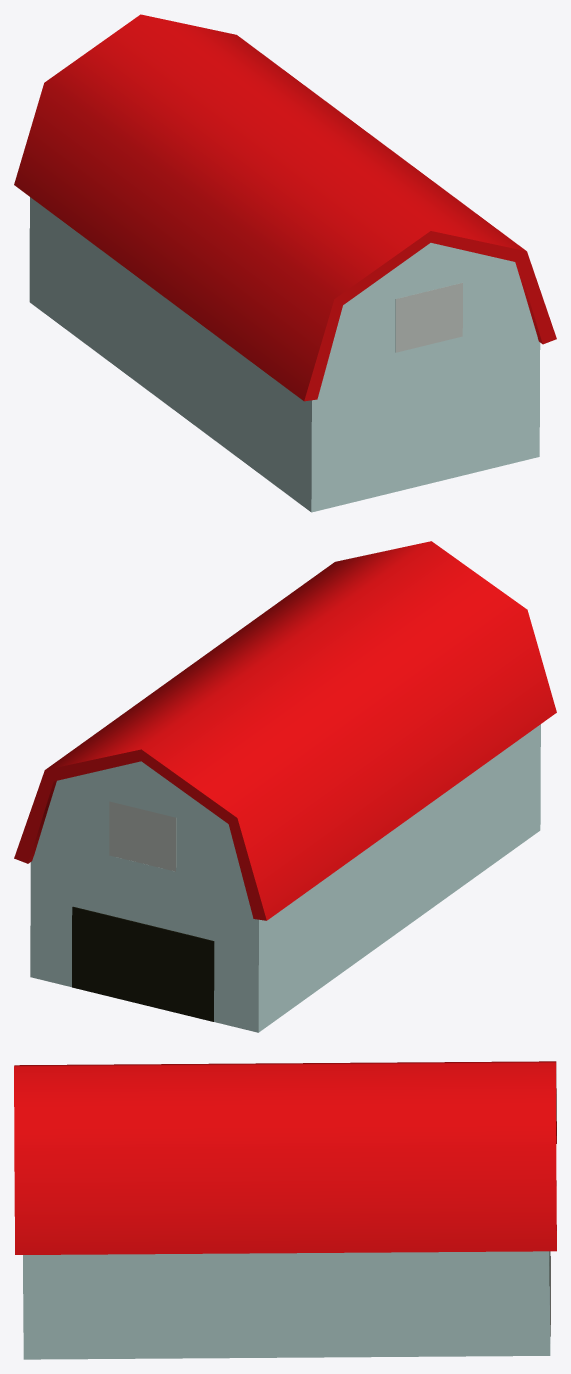
The model's file is barn.fbx.
The picture shows the model from 3 angles, top to bottom: view 1: azimuth 30°, elevation 25°; view 2: azimuth 150°, elevation 25°; view 3: azimuth 270°, elevation 25°; orthographic projection. The views are drawn at different scales.
Parts seen in each view (by area): view 1: roof, interior, window; view 2: roof, interior, door, window.001; view 3: roof, interior.
Part boxes in pixels (box(x1,y1,x2,y2)): roof: box(14, 14, 556, 401); interior: box(29, 197, 540, 512); window: box(395, 282, 462, 352); roof: box(14, 541, 556, 920); interior: box(30, 724, 540, 1032); door: box(72, 906, 214, 1021); window.001: box(109, 801, 176, 871); roof: box(14, 1061, 556, 1254); interior: box(23, 1251, 550, 1359).
Bounding box in the file's own units: 16.02 × 15.85 × 31.91.
